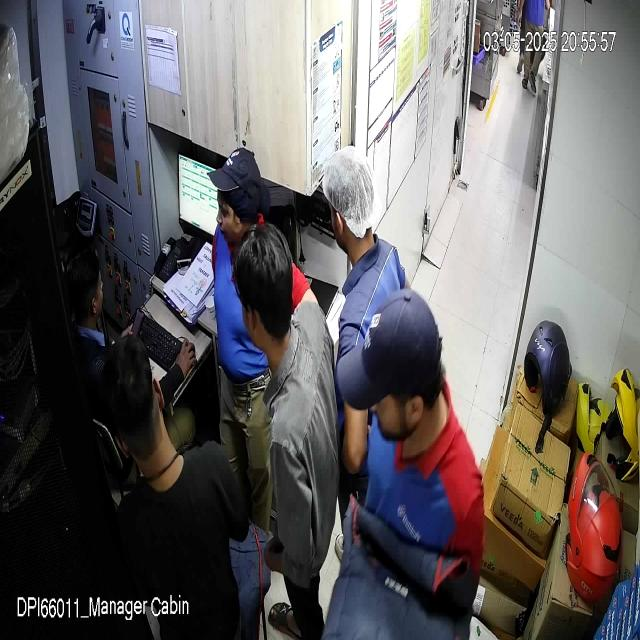helmet: (566, 451, 624, 603), (524, 318, 571, 416), (604, 367, 640, 482)
no_helmet: (334, 284, 448, 459), (232, 221, 295, 368), (322, 144, 375, 267), (207, 145, 262, 244)
